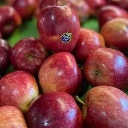apple: (74, 86, 128, 128)
